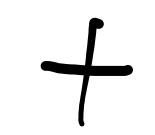plus: (41, 17, 133, 127)
